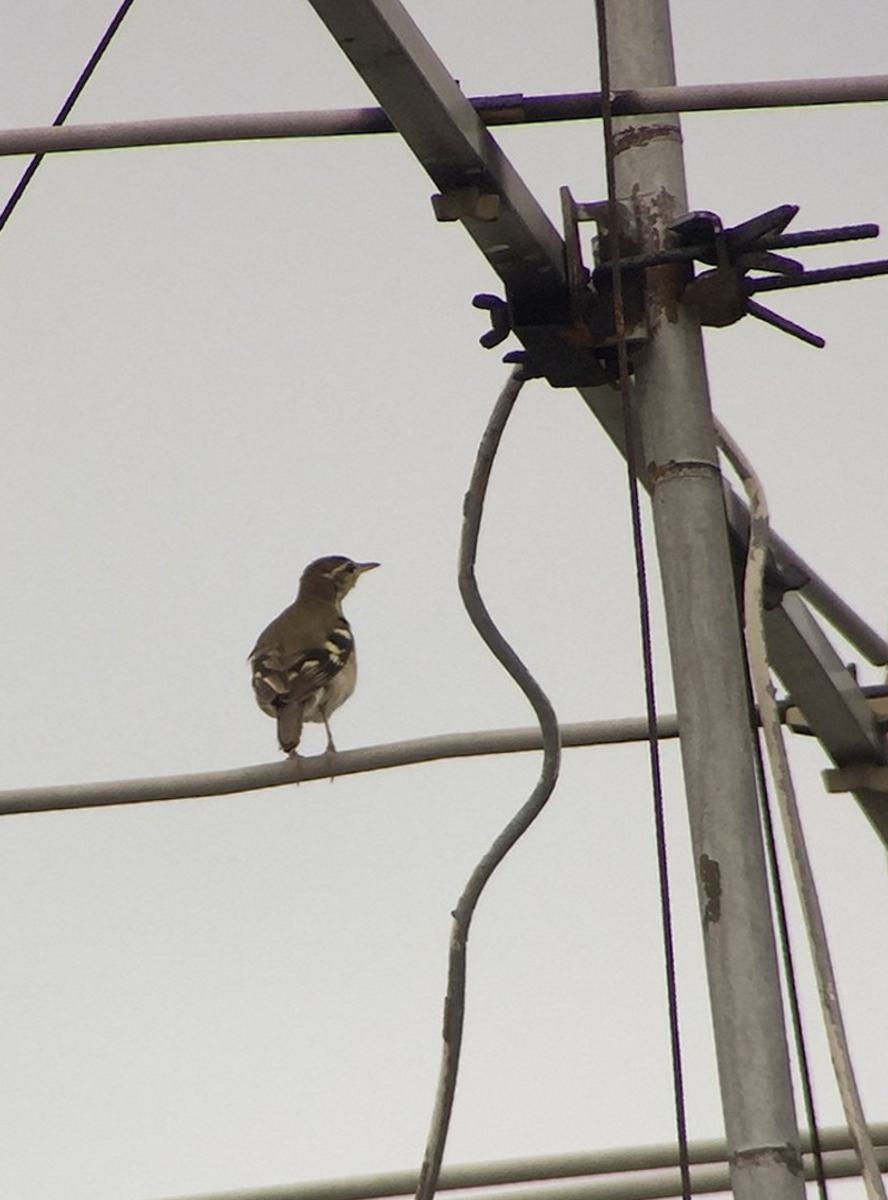wagtail: (193, 537, 414, 757)
